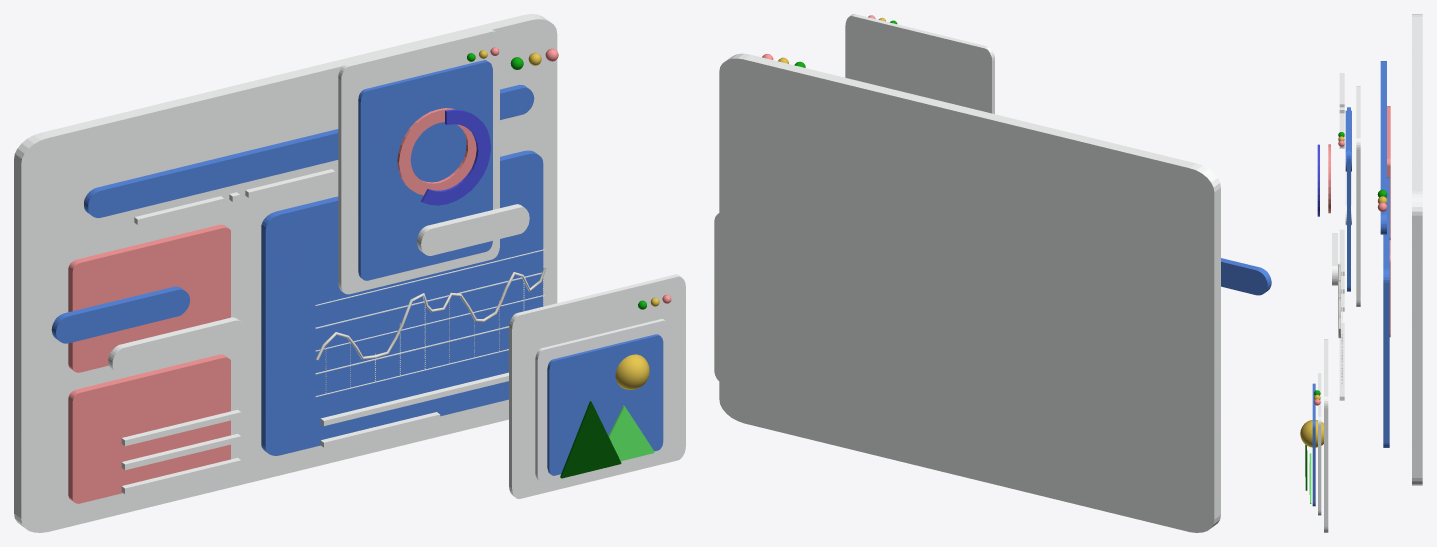
3 views of the same model, side by side, from view 1: azimuth 30°, elevation 25°; view 2: azimuth 150°, elevation 25°; view 3: azimuth 270°, elevation 25° (orthographic). The views are drawn at different scales.
Visible parts, largest first — view 1: Cube_Material.001_0; view 2: Cube_Material.001_0; view 3: Cube_Material.001_0.
Part boxes in pixels (x1,y1,x2,y2): Cube_Material.001_0: (14,14,685,532); Cube_Material.001_0: (714,14,1271,532); Cube_Material.001_0: (1300,14,1422,532).
Bounding box in the file's own units: 26.19 × 18.42 × 6.09.
1 material, 1 textured.
